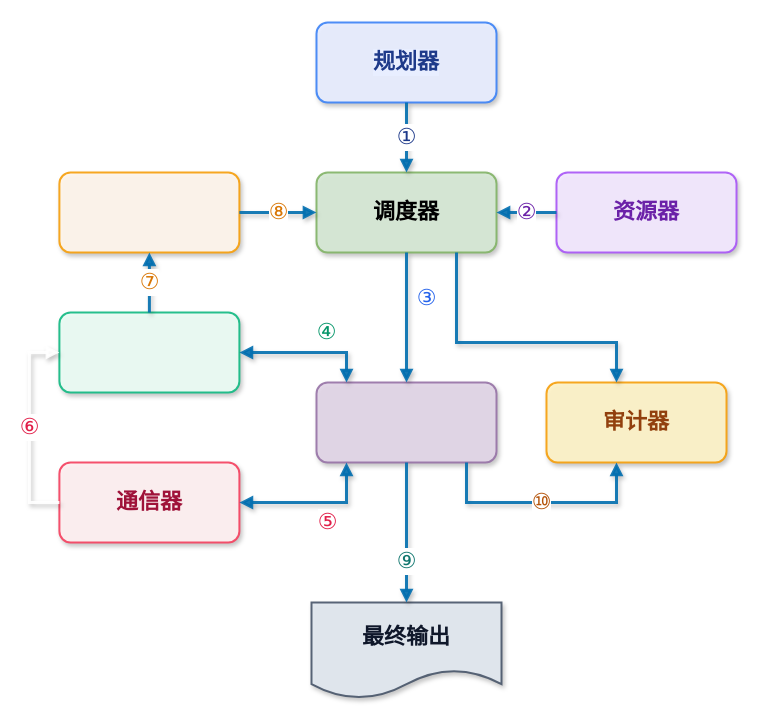
This 761x723 diagram has some shape labels left out. Here are the shapes that lost their labels. From the top down, the centre of each, then its label:
the point at 150,213: 恢复器
the point at 150,353: 记忆器
the point at 407,423: 执行器
